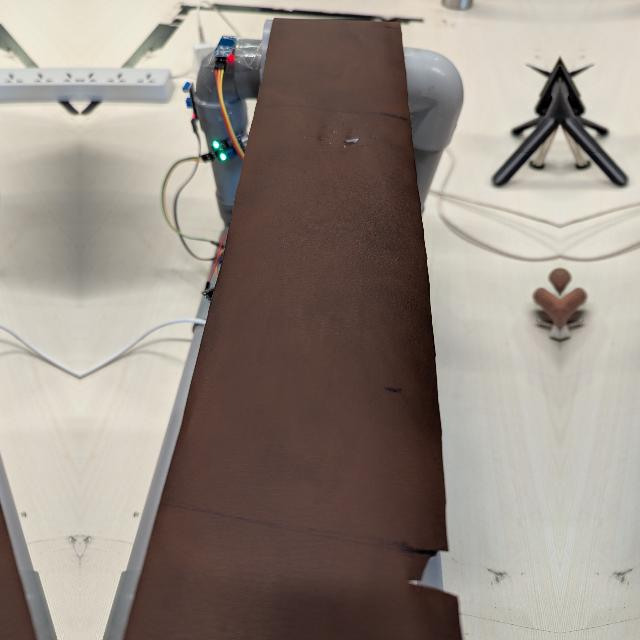belt_crack: (283, 97, 393, 152)
